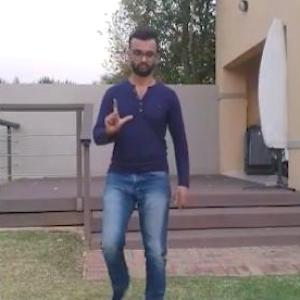land_hand: (98, 90, 135, 139)
